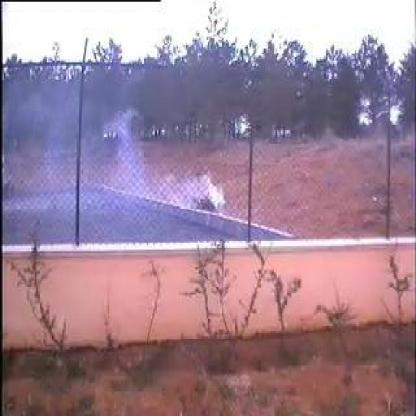-: (82, 103, 224, 237)
